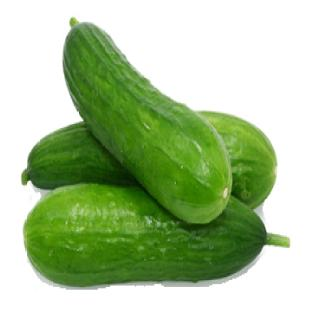Cucumber: (64, 20, 232, 222), (24, 184, 289, 286), (22, 122, 137, 189), (200, 112, 277, 208)
